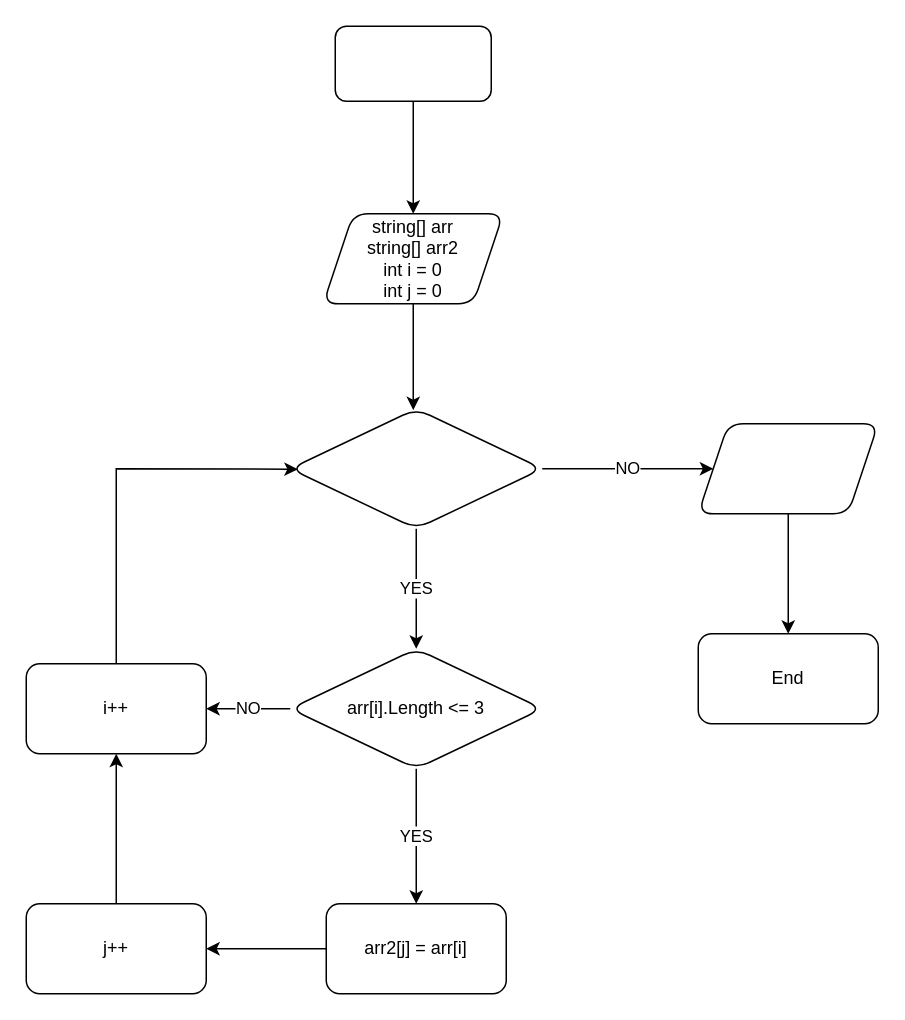
The diagram is 905 pixels wide and 1020 high, and some of its shapes have lost their labels. The centre of each missing label's shape, as x and y in pixels:
arr2: [787,468]
i < arr.Length: [415,468]
Start: [412,63]
